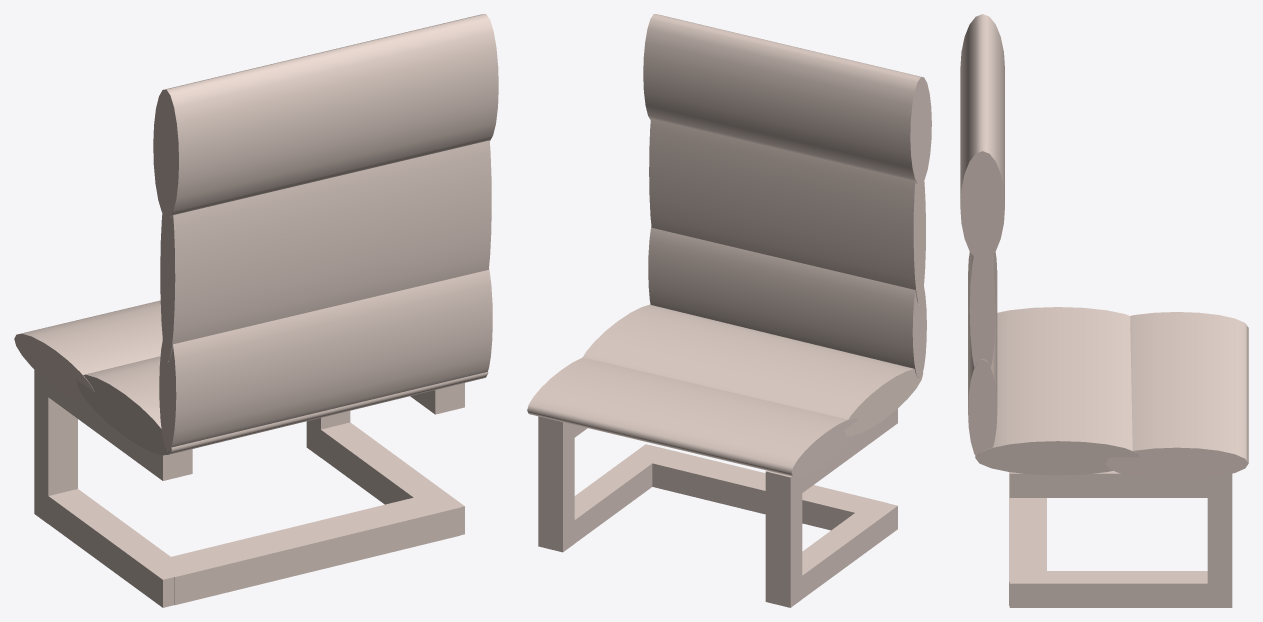
Rendered from Chair.fbx.
3 renders of one model, left to right at view 1: azimuth 30°, elevation 25°; view 2: azimuth 150°, elevation 25°; view 3: azimuth 270°, elevation 25°, orthographic. The views are drawn at different scales.
Parts seen in each view (by area): view 1: pasted__pasted__group9_pasted__group8_pasted__pasted__pCube4; view 2: pasted__pasted__group9_pasted__group8_pasted__pasted__pCube4; view 3: pasted__pasted__group9_pasted__group8_pasted__pasted__pCube4.
Part boxes in pixels (left/top/right/bottom): pasted__pasted__group9_pasted__group8_pasted__pasted__pCube4: left=14, top=14, right=498, bottom=607; pasted__pasted__group9_pasted__group8_pasted__pasted__pCube4: left=527, top=14, right=931, bottom=607; pasted__pasted__group9_pasted__group8_pasted__pasted__pCube4: left=960, top=14, right=1248, bottom=607.
Bounding box in the file's own units: 112 × 178 × 101.
